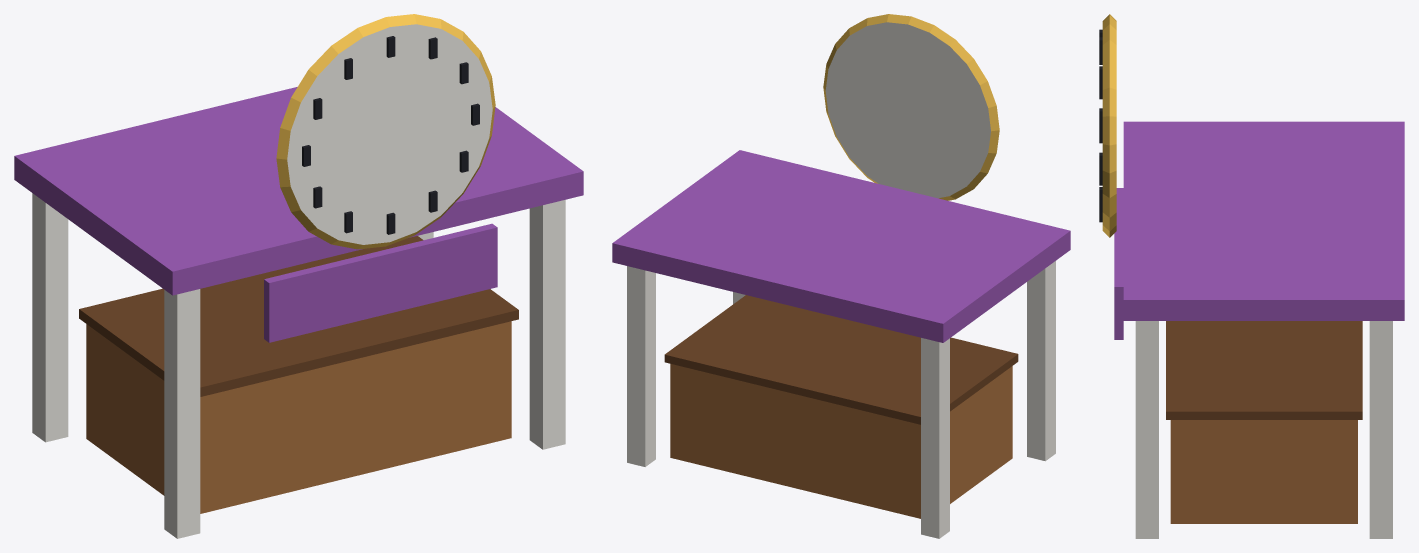
File: mdl_estacion_cronometro.fbx
3 renders of one model, left to right at view 1: azimuth 30°, elevation 25°; view 2: azimuth 150°, elevation 25°; view 3: azimuth 270°, elevation 25°, orthographic. The views are drawn at different scales.
Parts seen in each view (by area): view 1: mdl_estacion_cronometro; view 2: mdl_estacion_cronometro; view 3: mdl_estacion_cronometro.
Part boxes in pixels (<box>): mdl_estacion_cronometro: <box>14,14,583,538</box>; mdl_estacion_cronometro: <box>612,14,1070,538</box>; mdl_estacion_cronometro: <box>1099,14,1404,538</box>.
Bounding box in the file's own units: 1800 × 2030 × 1305.
